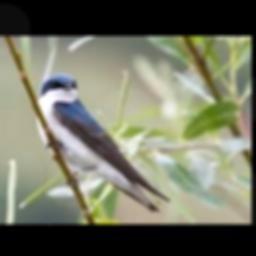Swallow: (36, 74, 171, 213)
